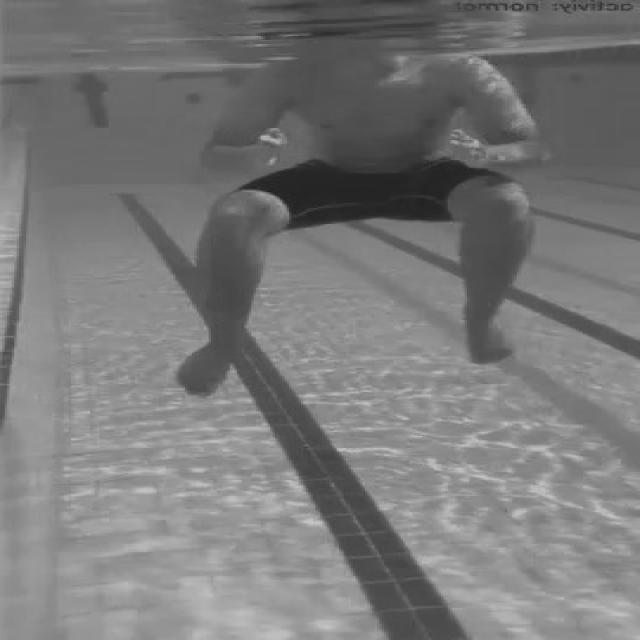swimming: (125, 55, 551, 433)
